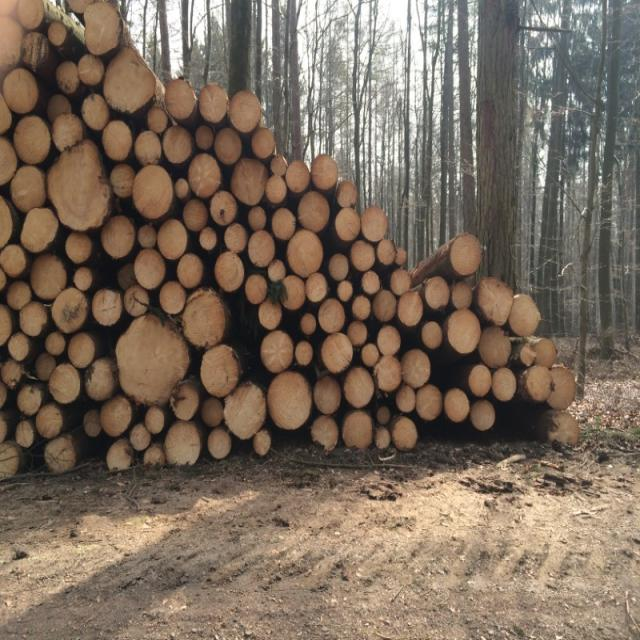wood-log: (115, 315, 191, 407), (46, 139, 112, 232), (106, 46, 160, 111), (182, 290, 227, 348), (268, 371, 312, 429), (225, 382, 268, 441), (198, 342, 241, 396), (77, 0, 119, 53), (133, 164, 174, 218), (28, 252, 68, 300), (476, 278, 516, 326), (13, 116, 52, 164), (231, 156, 269, 204), (52, 284, 90, 332), (164, 422, 204, 467), (286, 230, 323, 277), (10, 165, 47, 212), (22, 206, 60, 251), (100, 215, 137, 260), (446, 311, 482, 355), (188, 154, 223, 199), (229, 89, 264, 132), (509, 294, 544, 337), (261, 330, 295, 374), (450, 232, 484, 276), (100, 395, 134, 438), (479, 327, 514, 367), (319, 333, 353, 374), (133, 248, 166, 289), (157, 220, 189, 262), (165, 79, 197, 121), (50, 363, 82, 405), (162, 125, 195, 165), (343, 367, 375, 408), (298, 191, 330, 232), (216, 252, 247, 294), (46, 434, 78, 474), (102, 120, 132, 162), (342, 410, 374, 449), (199, 84, 230, 124), (91, 289, 123, 327), (52, 114, 84, 152), (402, 348, 433, 387), (170, 382, 200, 422), (83, 92, 113, 130), (215, 127, 244, 166), (314, 374, 342, 414), (361, 204, 390, 242), (20, 300, 50, 336), (67, 332, 96, 369), (210, 190, 238, 228), (310, 415, 340, 450), (319, 298, 348, 334), (249, 231, 277, 268), (37, 402, 65, 439), (312, 156, 340, 192), (523, 364, 551, 400), (176, 253, 204, 289), (398, 292, 425, 329), (416, 382, 442, 420), (160, 279, 188, 314), (336, 207, 364, 241), (106, 438, 134, 472), (182, 197, 209, 232), (376, 355, 402, 391), (0, 136, 18, 188), (64, 231, 92, 264), (394, 416, 420, 451), (281, 274, 306, 310), (271, 206, 298, 239), (17, 381, 44, 414), (78, 55, 105, 88), (5, 277, 32, 310), (135, 131, 161, 165), (258, 298, 284, 332), (426, 276, 452, 310), (373, 288, 397, 324), (470, 399, 496, 432), (0, 243, 26, 276), (285, 160, 311, 193), (250, 126, 276, 158), (0, 441, 21, 480), (446, 388, 470, 422), (492, 368, 516, 402), (469, 362, 493, 396), (351, 238, 376, 270), (244, 273, 268, 306), (57, 59, 80, 93), (222, 223, 248, 253), (377, 325, 402, 356), (207, 429, 232, 460), (9, 332, 34, 362), (451, 278, 476, 308), (202, 397, 226, 428), (0, 358, 24, 389), (306, 272, 330, 302), (146, 102, 169, 132), (421, 322, 444, 351), (378, 238, 400, 267), (394, 382, 415, 412), (130, 424, 152, 452), (390, 268, 412, 296), (330, 253, 351, 282), (337, 182, 360, 208), (145, 405, 165, 434), (266, 175, 287, 202), (0, 302, 13, 345), (46, 331, 68, 356), (346, 322, 367, 348), (0, 93, 13, 134), (16, 421, 36, 447), (49, 22, 69, 48), (74, 266, 94, 292), (196, 125, 214, 153), (248, 206, 267, 232), (360, 270, 379, 296), (352, 295, 371, 320), (200, 226, 218, 252), (301, 309, 318, 335), (295, 342, 312, 368), (268, 260, 287, 283), (361, 342, 379, 366), (338, 280, 354, 301), (376, 404, 391, 426)
